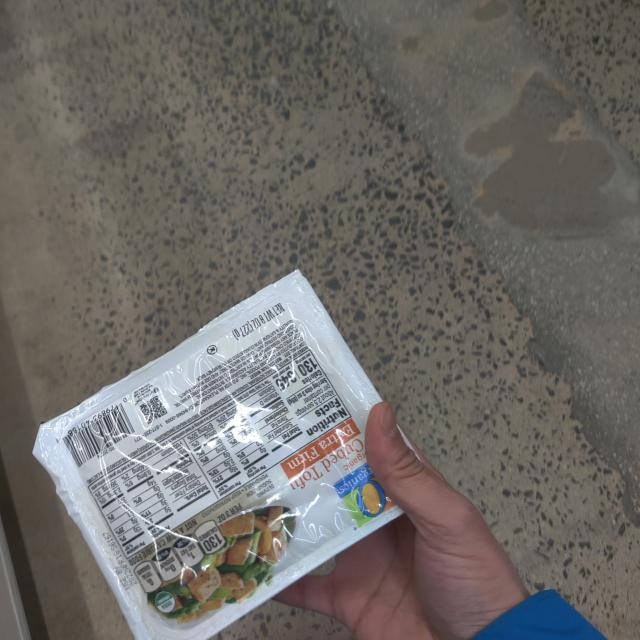Tofu: (20, 264, 441, 640)
